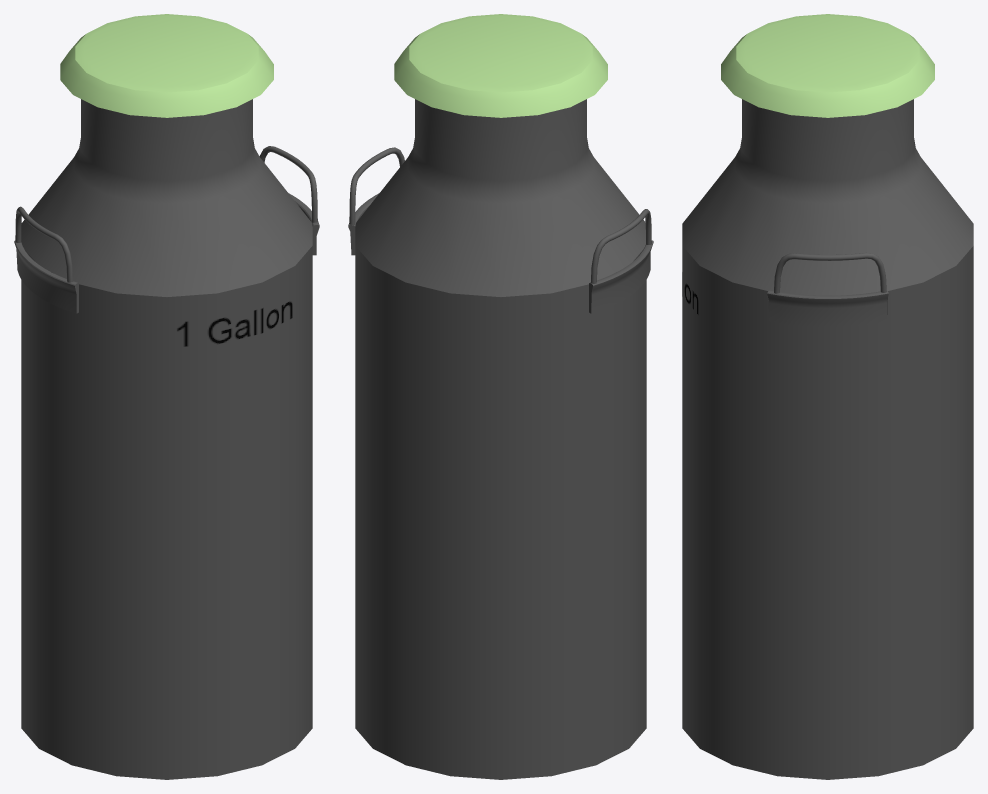
File: CalciumObject.DAE
The picture shows the model from 3 angles, left to right: view 1: azimuth 30°, elevation 25°; view 2: azimuth 150°, elevation 25°; view 3: azimuth 270°, elevation 25°; orthographic projection.
Parts seen in each view (by area): view 1: Cylinder001, Object001; view 2: Cylinder001, Object001; view 3: Cylinder001, Object001.
Boxes of the visible parts, bbox=[...] form: Cylinder001: bbox=[14, 99, 319, 779]; Object001: bbox=[60, 14, 273, 117]; Cylinder001: bbox=[348, 99, 653, 779]; Object001: bbox=[394, 14, 607, 117]; Cylinder001: bbox=[682, 99, 973, 779]; Object001: bbox=[721, 14, 934, 117].
Bounding box in the file's own units: 4.11 × 3.88 × 9.78.
2 materials, 1 textured.
